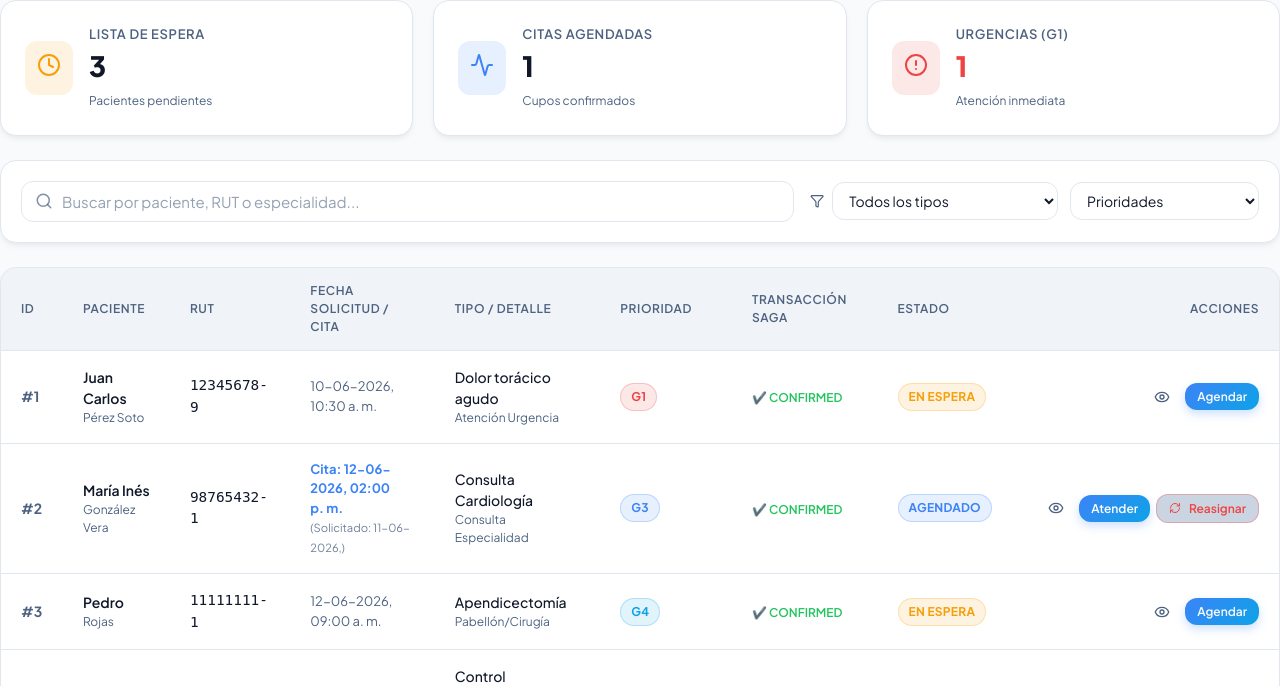
ListaEsperaTable › debe filtrar los datos por tipo de atención
// Seleccionar "Consulta Médica"
Select "Consulta Médica" in the 1st dropdown at coordinates (945, 201), box [832,182,1058,220]
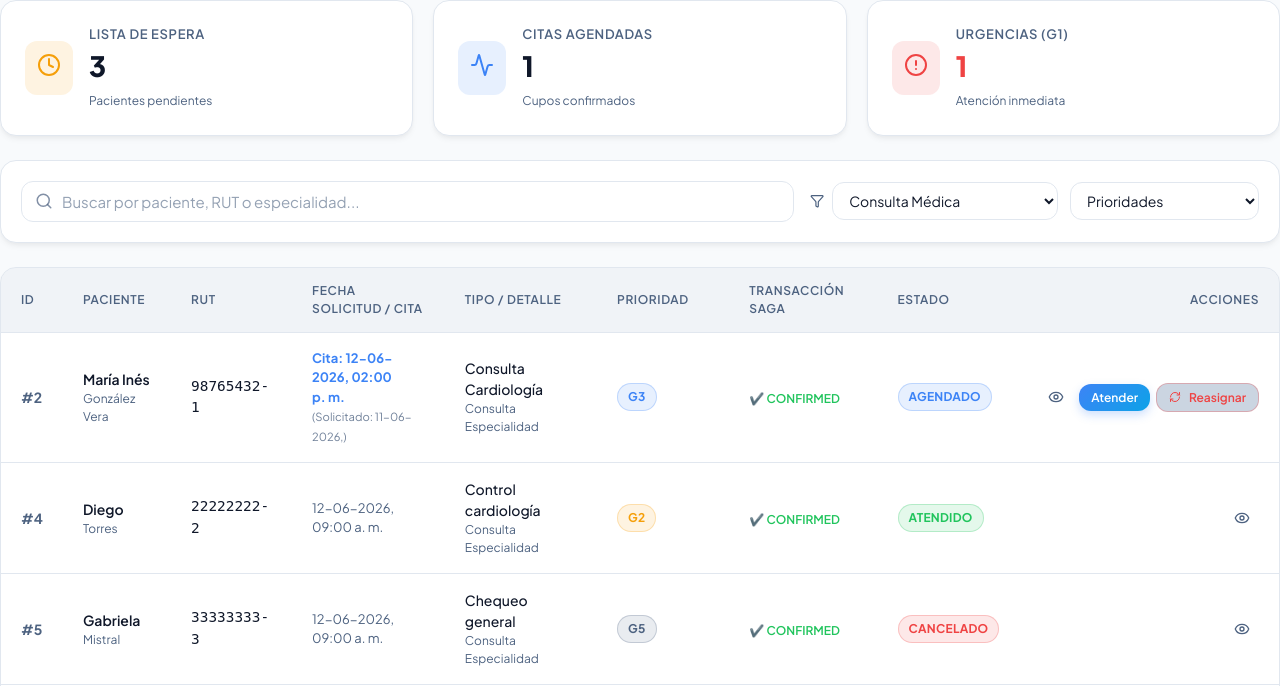
Expected: the text "María Inés" is shown, [83,369,151,390]
Now the text "Juan Carlos" is gone
Now the text "Pedro" is gone
